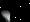person: (1, 8, 13, 22)
